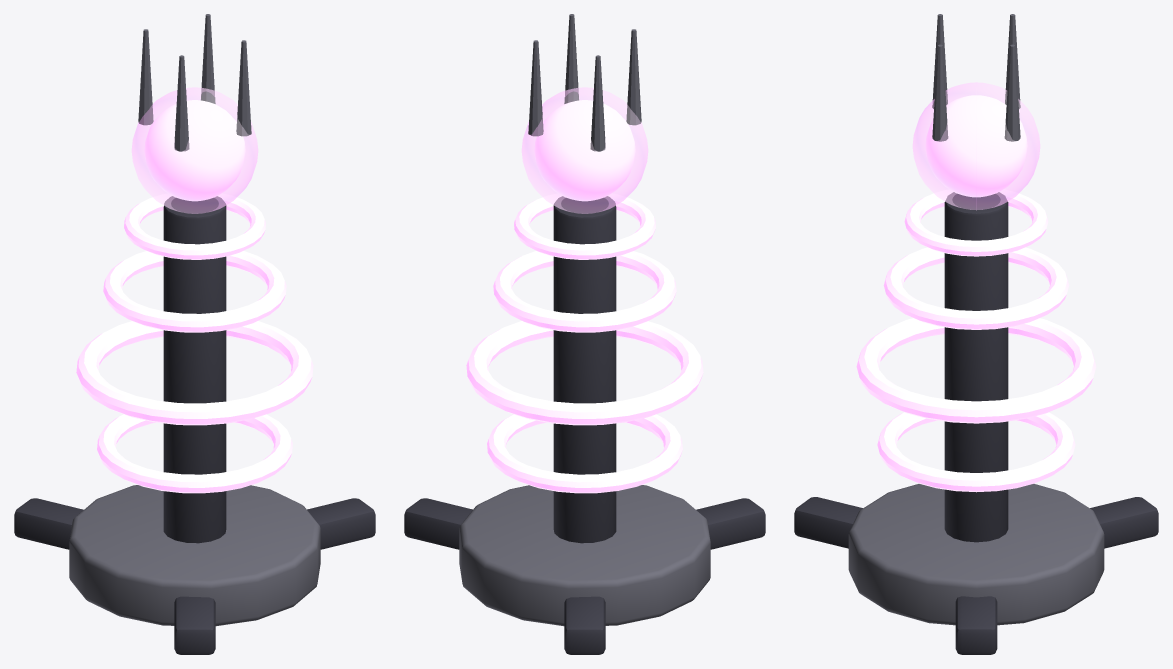
File: turret_tesla.glb
3 views of the same model, side by side, from view 1: azimuth 30°, elevation 25°; view 2: azimuth 150°, elevation 25°; view 3: azimuth 270°, elevation 25° (orthographic).
Visible parts, largest first — view 1: Tesla_Base, Tesla_Column, Tesla_Shell, Tesla_Ring1, Tesla_Core, Tesla_Ring2, Tesla_Ring0, Tesla_Ring3, Tesla_Foot1, Tesla_Foot0, Tesla_Foot2, Tesla_Rod2 (+3 smaller); view 2: Tesla_Base, Tesla_Column, Tesla_Shell, Tesla_Ring1, Tesla_Core, Tesla_Ring2, Tesla_Ring0, Tesla_Ring3, Tesla_Foot2, Tesla_Foot0, Tesla_Foot1, Tesla_Rod0 (+3 smaller); view 3: Tesla_Base, Tesla_Column, Tesla_Shell, Tesla_Ring1, Tesla_Core, Tesla_Ring2, Tesla_Ring0, Tesla_Ring3, Tesla_Foot0, Tesla_Foot1, Tesla_Foot2, Tesla_Rod0 (+3 smaller).
Part boxes in pixels (x1,y1,x2,y2): Tesla_Base: [69, 485, 320, 626]; Tesla_Column: [163, 196, 226, 543]; Tesla_Shell: [131, 87, 258, 213]; Tesla_Ring1: [76, 321, 313, 425]; Tesla_Core: [144, 100, 245, 201]; Tesla_Ring2: [103, 251, 286, 332]; Tesla_Ring0: [97, 414, 292, 493]; Tesla_Ring3: [124, 193, 265, 259]; Tesla_Foot1: [14, 498, 83, 549]; Tesla_Foot0: [307, 498, 375, 549]; Tesla_Foot2: [174, 596, 215, 654]; Tesla_Rod2: [174, 55, 189, 151]; Tesla_Base: [459, 485, 710, 626]; Tesla_Column: [553, 196, 616, 543]; Tesla_Shell: [521, 87, 648, 213]; Tesla_Ring1: [466, 321, 703, 425]; Tesla_Core: [534, 100, 635, 201]; Tesla_Ring2: [493, 251, 676, 332]; Tesla_Ring0: [487, 414, 682, 493]; Tesla_Ring3: [514, 193, 655, 259]; Tesla_Foot2: [696, 498, 765, 549]; Tesla_Foot0: [404, 498, 472, 549]; Tesla_Foot1: [564, 596, 605, 654]; Tesla_Rod0: [528, 40, 543, 136]; Tesla_Base: [848, 484, 1104, 625]; Tesla_Column: [944, 192, 1008, 542]; Tesla_Shell: [912, 82, 1040, 210]; Tesla_Ring1: [856, 318, 1096, 423]; Tesla_Core: [925, 95, 1027, 197]; Tesla_Ring2: [883, 247, 1069, 329]; Tesla_Ring0: [877, 412, 1075, 492]; Tesla_Ring3: [904, 189, 1048, 256]; Tesla_Foot0: [955, 596, 997, 654]; Tesla_Foot1: [1090, 497, 1158, 548]; Tesla_Foot2: [794, 497, 862, 548]; Tesla_Rod0: [1004, 44, 1020, 141].
Bounding box in the file's own units: 1.03 × 1.88 × 1.14.
